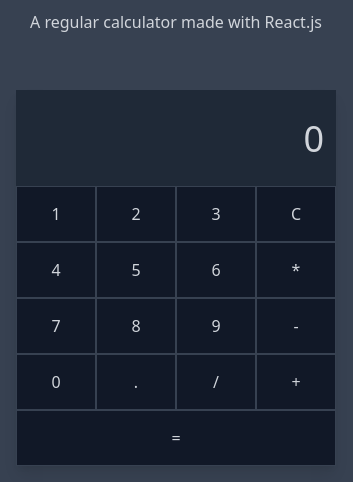
it: Calculator test › should clean input
What coordinates should you click on to do the following:
click the button "2"
I would click on:
 (136, 214)
Its box is 96,186 -> 176,242.
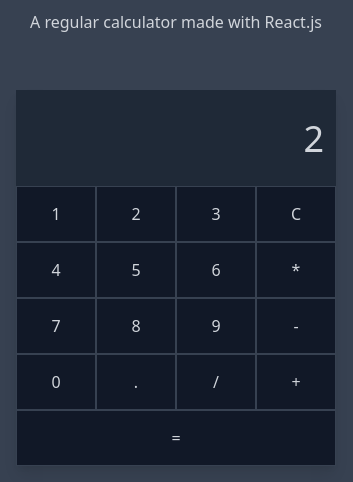
What coordinates should you click on to do the following:
click the button "C"
I would click on:
 (296, 214)
Its box is 256,186 -> 336,242.
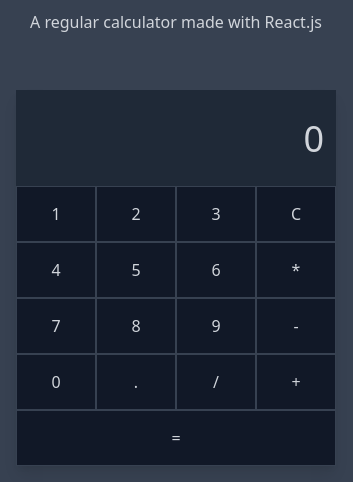
Expected: the field with test id "screenInput" holds "0", 16,90 -> 336,186
